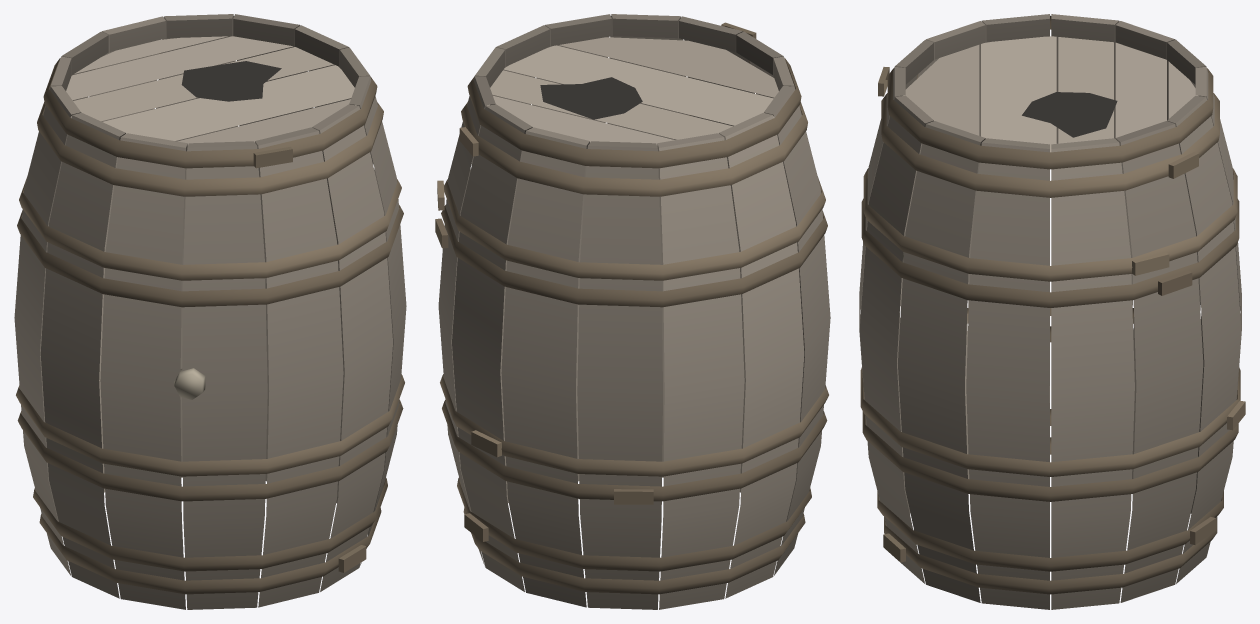
Rendered from prop_barrel.glb.
3 renders of one model, left to right at view 1: azimuth 30°, elevation 25°; view 2: azimuth 150°, elevation 25°; view 3: azimuth 270°, elevation 25°, orthographic.
Parts seen in each view (by area): view 1: BarrelSoft, Barrel; view 2: BarrelSoft, Barrel; view 3: BarrelSoft, Barrel.
Boxes of the visible parts, left/top/right/bottom form: BarrelSoft: left=14, top=15, right=406, bottom=609; Barrel: left=51, top=14, right=369, bottom=572; BarrelSoft: left=438, top=15, right=830, bottom=609; Barrel: left=435, top=14, right=794, bottom=541; BarrelSoft: left=859, top=15, right=1241, bottom=609; Barrel: left=878, top=14, right=1245, bottom=562.
Bounding box in the file's own units: 0.694 × 0.9 × 0.6839.
